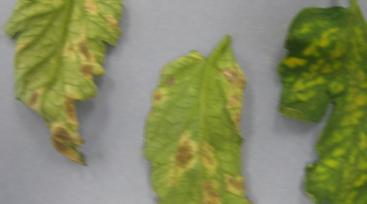Tomato mold leaf: (139, 44, 260, 204), (0, 0, 121, 157), (275, 0, 367, 204)
